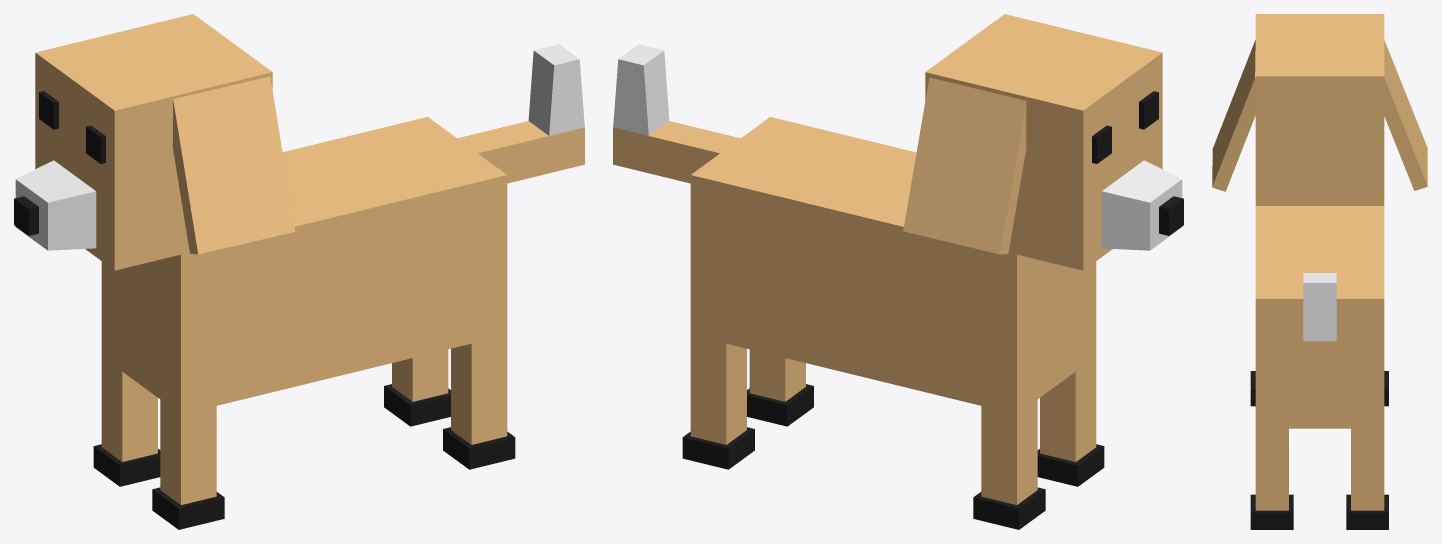
The model's file is dog.fbx.
3 renders of one model, left to right at view 1: azimuth 30°, elevation 25°; view 2: azimuth 150°, elevation 25°; view 3: azimuth 270°, elevation 25°, orthographic. The views are drawn at different scales.
Parts seen in each view (by area): view 1: mesh_571269158, mesh_1603188900, mesh_820031791, mesh_1778555128, mesh_895168117, mesh_1548720430, mesh_967915942, mesh_575475618, mesh_46686671, mesh_1171828856, mesh_2064127136, mesh_1371906315 (+3 smaller); view 2: mesh_571269158, mesh_1603188900, mesh_1618594770, mesh_1548720430, mesh_1171828856, mesh_1778555128, mesh_967915942, mesh_575475618, mesh_46686671, mesh_895168117, mesh_1363169703, mesh_1058480944 (+3 smaller); view 3: mesh_1603188900, mesh_571269158, mesh_895168117, mesh_1171828856, mesh_1618594770, mesh_820031791, mesh_46686671, mesh_1371906315, mesh_575475618, mesh_1058480944.
Boxes of the visible parts, x1,y1,x2,y2 form: mesh_571269158: [101, 117, 507, 414]; mesh_1603188900: [35, 14, 272, 270]; mesh_820031791: [172, 76, 295, 254]; mesh_1778555128: [160, 362, 216, 504]; mesh_895168117: [451, 335, 507, 444]; mesh_1548720430: [101, 319, 157, 461]; mesh_967915942: [15, 160, 96, 250]; mesh_575475618: [457, 121, 584, 183]; mesh_46686671: [528, 44, 584, 135]; mesh_1171828856: [392, 349, 448, 401]; mesh_2064127136: [152, 487, 224, 529]; mesh_1371906315: [443, 427, 515, 469]; mesh_571269158: [690, 117, 1096, 405]; mesh_1603188900: [925, 14, 1162, 270]; mesh_1618594770: [903, 77, 1026, 254]; mesh_1548720430: [981, 362, 1037, 504]; mesh_1171828856: [690, 298, 746, 444]; mesh_1778555128: [1040, 319, 1096, 461]; mesh_967915942: [1101, 160, 1182, 250]; mesh_575475618: [613, 121, 740, 183]; mesh_46686671: [613, 44, 669, 135]; mesh_895168117: [749, 349, 805, 401]; mesh_1363169703: [973, 487, 1045, 529]; mesh_1058480944: [682, 427, 754, 469]; mesh_1603188900: [1255, 14, 1384, 205]; mesh_571269158: [1255, 206, 1384, 428]; mesh_895168117: [1255, 394, 1288, 510]; mesh_1171828856: [1351, 398, 1384, 510]; mesh_1618594770: [1384, 40, 1427, 190]; mesh_820031791: [1212, 40, 1255, 191]; mesh_46686671: [1303, 273, 1336, 341]; mesh_1371906315: [1250, 494, 1293, 529]; mesh_575475618: [1303, 341, 1336, 371]; mesh_1058480944: [1346, 494, 1388, 529].
Size of the model in its own units: 109 by 83 by 45.22.
